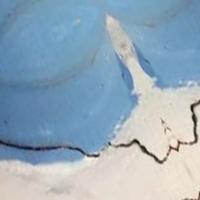crack: (0, 91, 199, 163)
